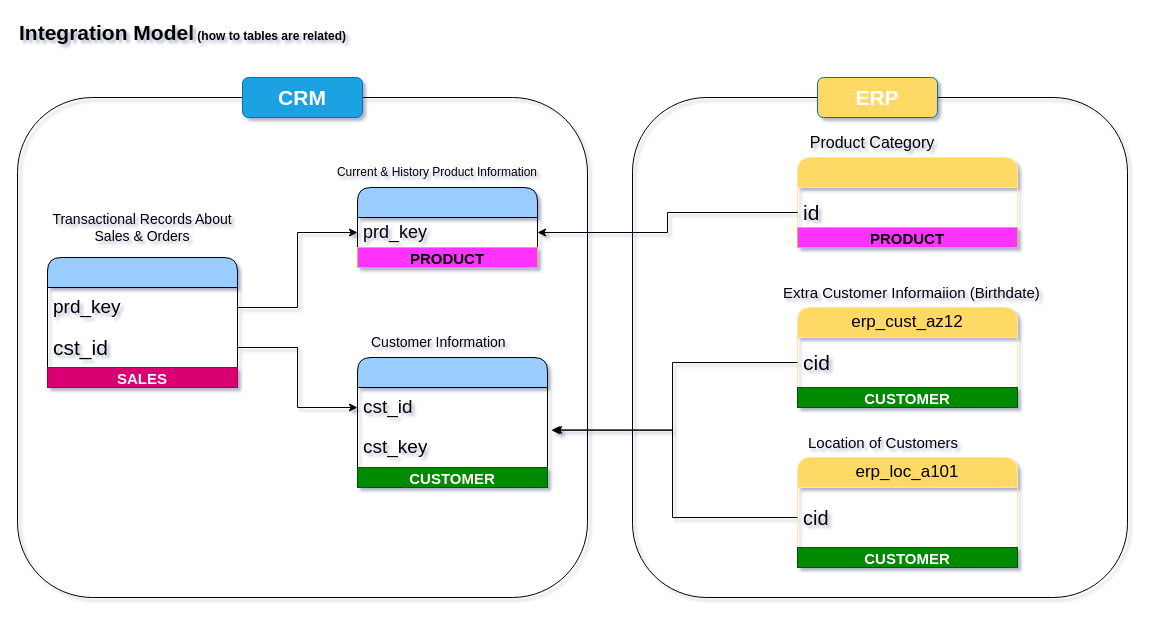
The diagram is 1151 pixels wide and 621 high, and some of its shapes have lost their labels. Each missing label, with the box of its shape:
crm_cust_info: (356, 356, 548, 488)
crm_prd_info: (356, 186, 538, 268)
crm_sales_details: (46, 256, 238, 388)
erp_px_cat_g1v2: (796, 156, 1018, 238)
